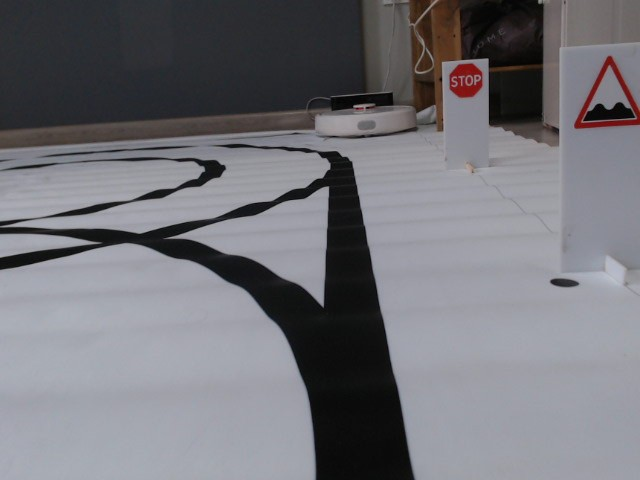Nerov: (574, 55, 640, 131)
